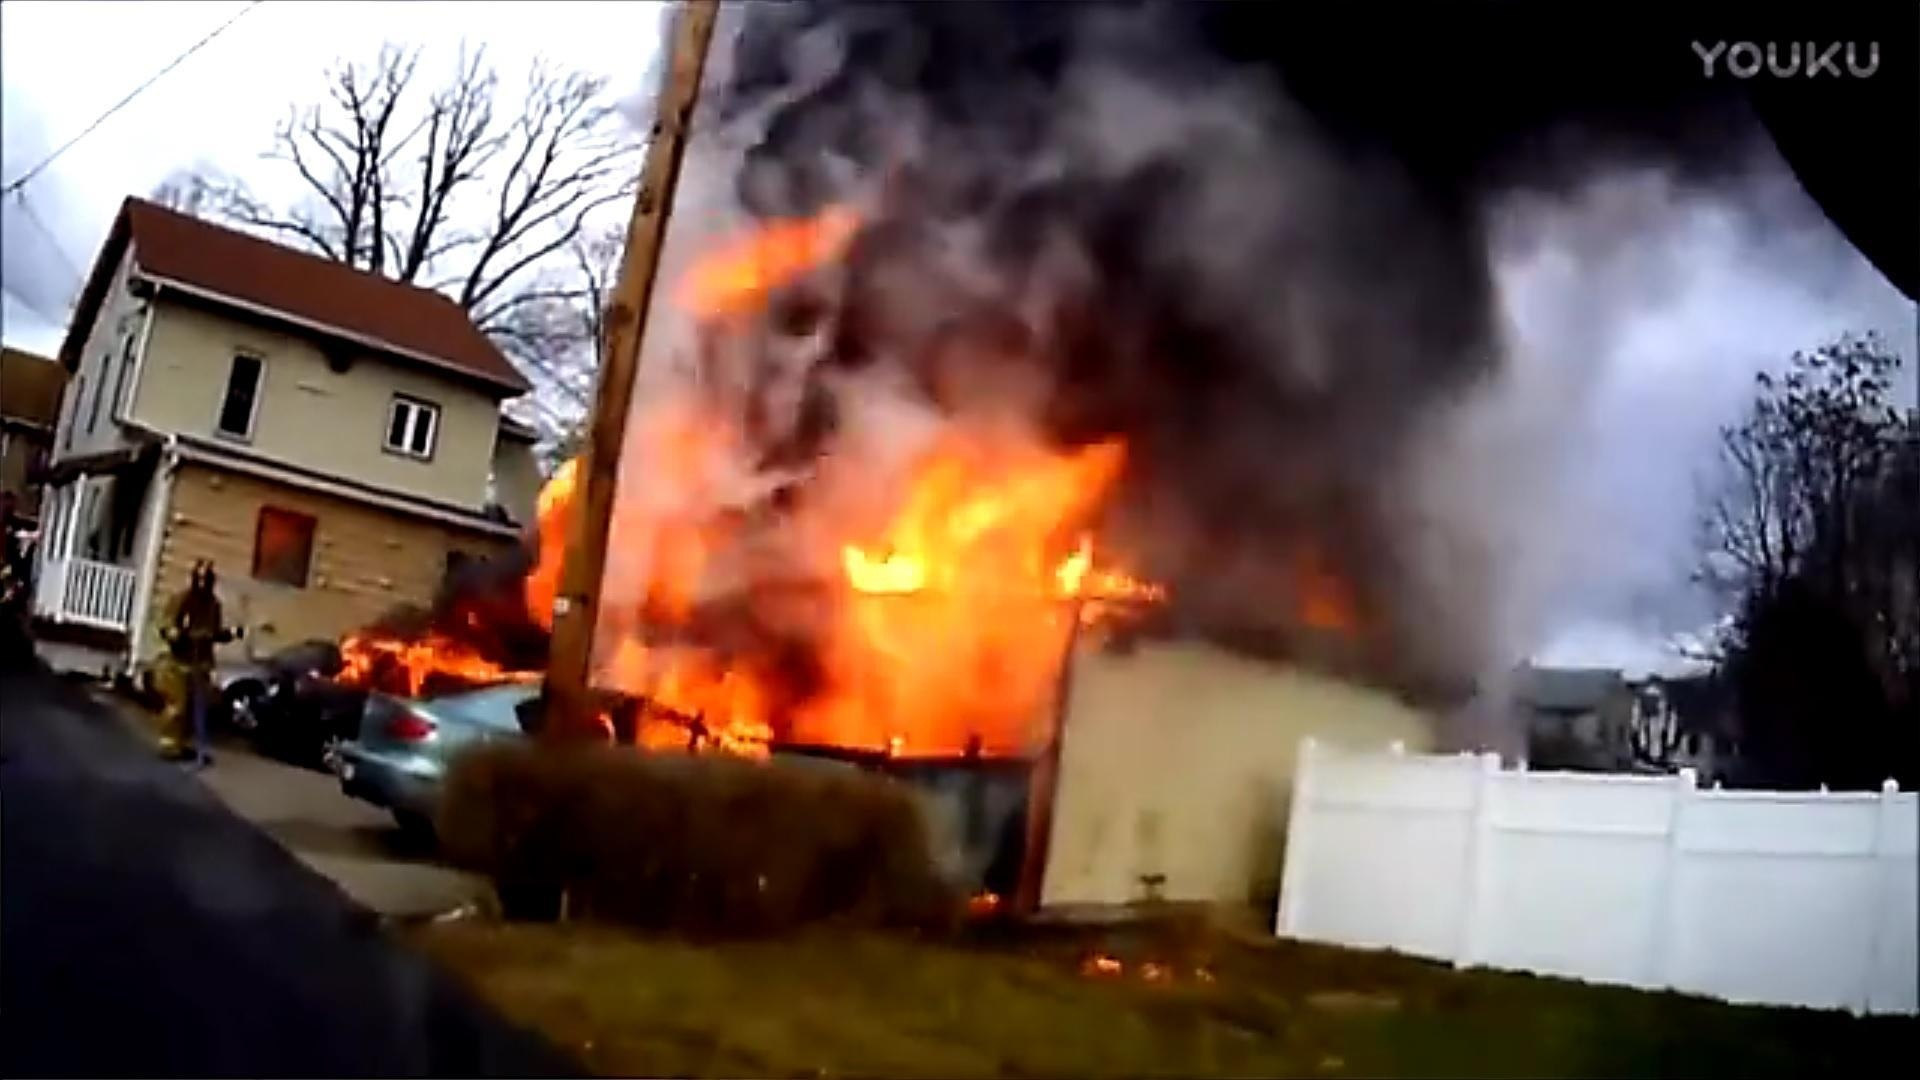fire: (564, 422, 1145, 758), (320, 580, 553, 700), (678, 204, 848, 313)
